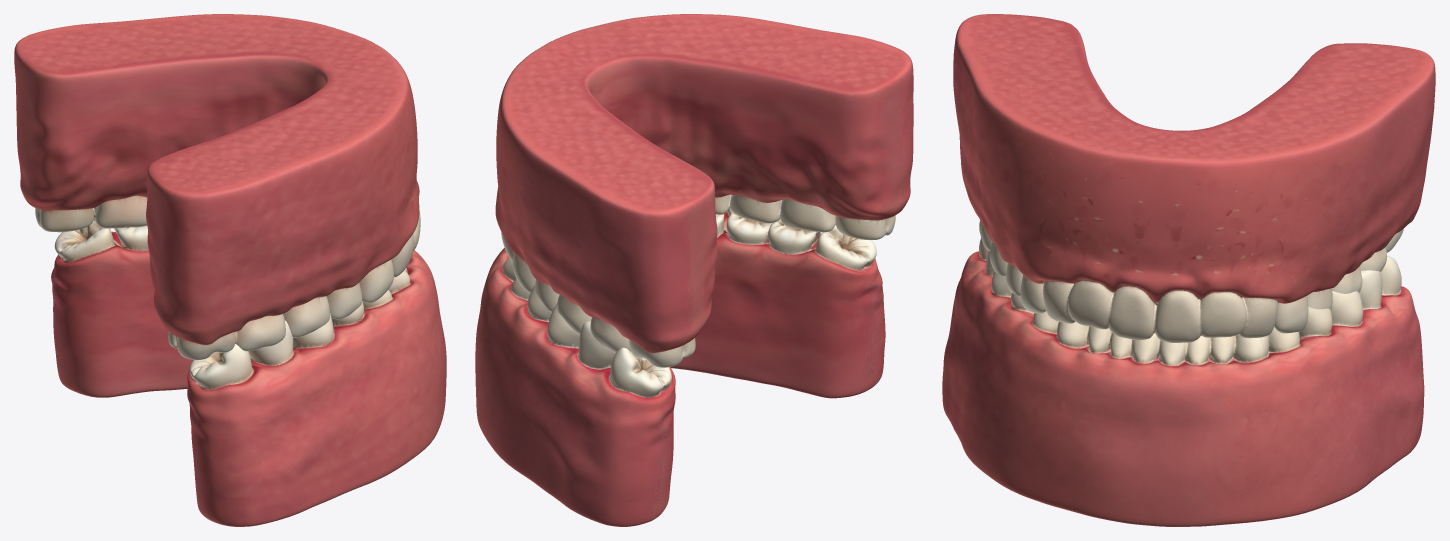
File: dental_scene_all.glb
3 renders of one model, left to right at view 1: azimuth 30°, elevation 25°; view 2: azimuth 150°, elevation 25°; view 3: azimuth 270°, elevation 25°, orthographic. The views are drawn at different scales.
Visible parts, largest first — view 1: cerrada_arcada_inferior, cerrada_arcada_superior; view 2: cerrada_arcada_inferior, cerrada_arcada_superior; view 3: cerrada_arcada_inferior, cerrada_arcada_superior.
Boxes of the visible parts, <box> form: cerrada_arcada_inferior: <box>14,14,420,360</box>; cerrada_arcada_superior: <box>51,220,446,526</box>; cerrada_arcada_inferior: <box>495,14,913,367</box>; cerrada_arcada_superior: <box>475,199,885,526</box>; cerrada_arcada_inferior: <box>953,14,1435,342</box>; cerrada_arcada_superior: <box>942,237,1424,526</box>.
Bounding box in the file's own units: 1.07 × 1.09 × 1.29.
Materials: 1 (1 with a texture image).
